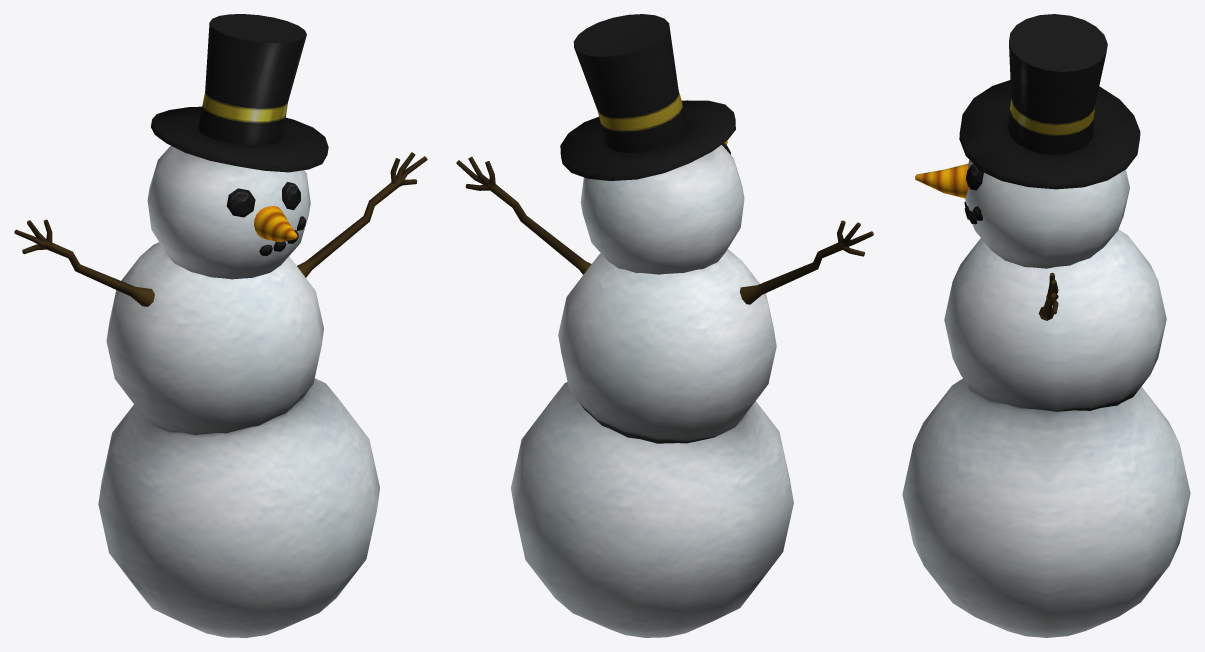
The model's file is MagicSnowman.obj.
The picture shows the model from 3 angles, left to right: view 1: azimuth 30°, elevation 25°; view 2: azimuth 150°, elevation 25°; view 3: azimuth 270°, elevation 25°; orthographic projection.
Parts seen in each view (by area): view 1: Handle1; view 2: Handle1; view 3: Handle1.
Boxes of the visible parts, x1,y1,x2,y2 form: Handle1: (14,14,427,637); Handle1: (456,14,873,637); Handle1: (902,14,1190,637).
Bounding box in the file's own units: 2.14 × 2.94 × 1.27.
1 material, 1 textured.
